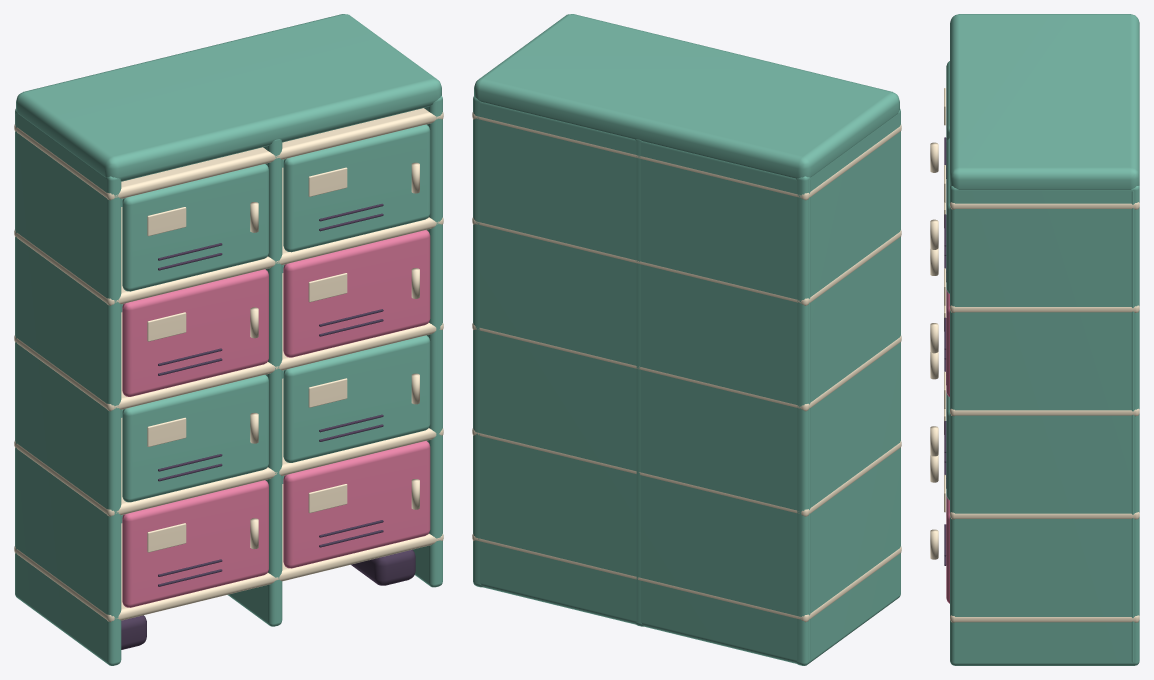
The model's file is 8_slot_locker.fbx.
The picture shows the model from 3 angles, left to right: view 1: azimuth 30°, elevation 25°; view 2: azimuth 150°, elevation 25°; view 3: azimuth 270°, elevation 25°; orthographic projection. The views are drawn at different scales.
Visible parts, largest first — view 1: Toon_8_slot_locker Locker upright.003, Toon_8_slot_locker Rounded locker crown.001, Toon_8_slot_locker_DOOR_4_ Compartment door.001, Toon_8_slot_locker_DOOR_6_ Compartment door.001, Toon_8_slot_locker_DOOR_2_ Compartment door.001, Toon_8_slot_locker_DOOR_8_ Compartment door.001, Toon_8_slot_locker_DOOR_1_ Compartment door.001, Toon_8_slot_locker_DOOR_3_ Compartment door.001, Toon_8_slot_locker_DOOR_5_ Compartment door.001, Toon_8_slot_locker_DOOR_7_ Compartment door.001, Toon_8_slot_locker Locker upright.004, Toon_8_slot_locker Locker upright.005 (+16 smaller); view 2: Toon_8_slot_locker Locker rear.001, Toon_8_slot_locker Locker upright.003, Toon_8_slot_locker Rounded locker crown.001, Toon_8_slot_locker Locker upright.005, Toon_8_slot_locker Locker upright.004, Toon_8_slot_locker Compartment shelf.009, Toon_8_slot_locker Compartment shelf.005, Toon_8_slot_locker Compartment shelf.008, Toon_8_slot_locker Compartment shelf.007, Toon_8_slot_locker Compartment shelf.006; view 3: Toon_8_slot_locker Locker upright.005, Toon_8_slot_locker Rounded locker crown.001, Toon_8_slot_locker Locker rear.001, Toon_8_slot_locker Compartment shelf.006, Toon_8_slot_locker Compartment shelf.009, Toon_8_slot_locker Compartment shelf.005, Toon_8_slot_locker Compartment shelf.007, Toon_8_slot_locker Compartment shelf.008, Toon_8_slot_locker_DOOR_8_ Compartment door.001, Toon_8_slot_locker_DOOR_4_ Compartment door.001, Toon_8_slot_locker_DOOR_2_ Compartment door.001, Toon_8_slot_locker_DOOR_6_ Compartment door.001.
Boxes of the visible parts, box(x1,y1,x2,y2) form: Toon_8_slot_locker Locker upright.003: box(15, 109, 121, 665); Toon_8_slot_locker Rounded locker crown.001: box(16, 14, 441, 181); Toon_8_slot_locker_DOOR_4_ Compartment door.001: box(283, 335, 430, 462); Toon_8_slot_locker_DOOR_6_ Compartment door.001: box(283, 230, 430, 357); Toon_8_slot_locker_DOOR_2_ Compartment door.001: box(283, 441, 430, 568); Toon_8_slot_locker_DOOR_8_ Compartment door.001: box(283, 124, 430, 252); Toon_8_slot_locker_DOOR_1_ Compartment door.001: box(122, 480, 268, 607); Toon_8_slot_locker_DOOR_3_ Compartment door.001: box(122, 375, 268, 502); Toon_8_slot_locker_DOOR_5_ Compartment door.001: box(122, 269, 268, 396); Toon_8_slot_locker_DOOR_7_ Compartment door.001: box(122, 164, 268, 291); Toon_8_slot_locker Locker upright.004: box(227, 139, 282, 626); Toon_8_slot_locker Locker upright.005: box(413, 95, 442, 587); Toon_8_slot_locker Locker rear.001: box(479, 102, 810, 663); Toon_8_slot_locker Locker upright.003: box(796, 109, 900, 665); Toon_8_slot_locker Rounded locker crown.001: box(474, 14, 899, 178); Toon_8_slot_locker Locker upright.005: box(473, 95, 482, 587); Toon_8_slot_locker Locker upright.004: box(635, 139, 643, 626); Toon_8_slot_locker Compartment shelf.009: box(472, 112, 901, 200); Toon_8_slot_locker Compartment shelf.005: box(472, 534, 901, 622); Toon_8_slot_locker Compartment shelf.008: box(472, 217, 901, 305); Toon_8_slot_locker Compartment shelf.007: box(472, 323, 901, 411); Toon_8_slot_locker Compartment shelf.006: box(472, 428, 901, 516); Toon_8_slot_locker Locker upright.005: box(950, 185, 1139, 665); Toon_8_slot_locker Rounded locker crown.001: box(950, 14, 1139, 189); Toon_8_slot_locker Locker rear.001: box(1131, 191, 1134, 662); Toon_8_slot_locker Compartment shelf.006: box(950, 512, 1139, 519); Toon_8_slot_locker Compartment shelf.009: box(950, 202, 1139, 209); Toon_8_slot_locker Compartment shelf.005: box(950, 615, 1139, 622); Toon_8_slot_locker Compartment shelf.007: box(950, 408, 1139, 416); Toon_8_slot_locker Compartment shelf.008: box(950, 305, 1139, 312); Toon_8_slot_locker_DOOR_8_ Compartment door.001: box(946, 138, 949, 293); Toon_8_slot_locker_DOOR_4_ Compartment door.001: box(946, 392, 949, 500); Toon_8_slot_locker_DOOR_2_ Compartment door.001: box(946, 496, 949, 603); Toon_8_slot_locker_DOOR_6_ Compartment door.001: box(946, 289, 949, 396).
Bounding box in the file's own units: 100 × 144 × 55.2.
